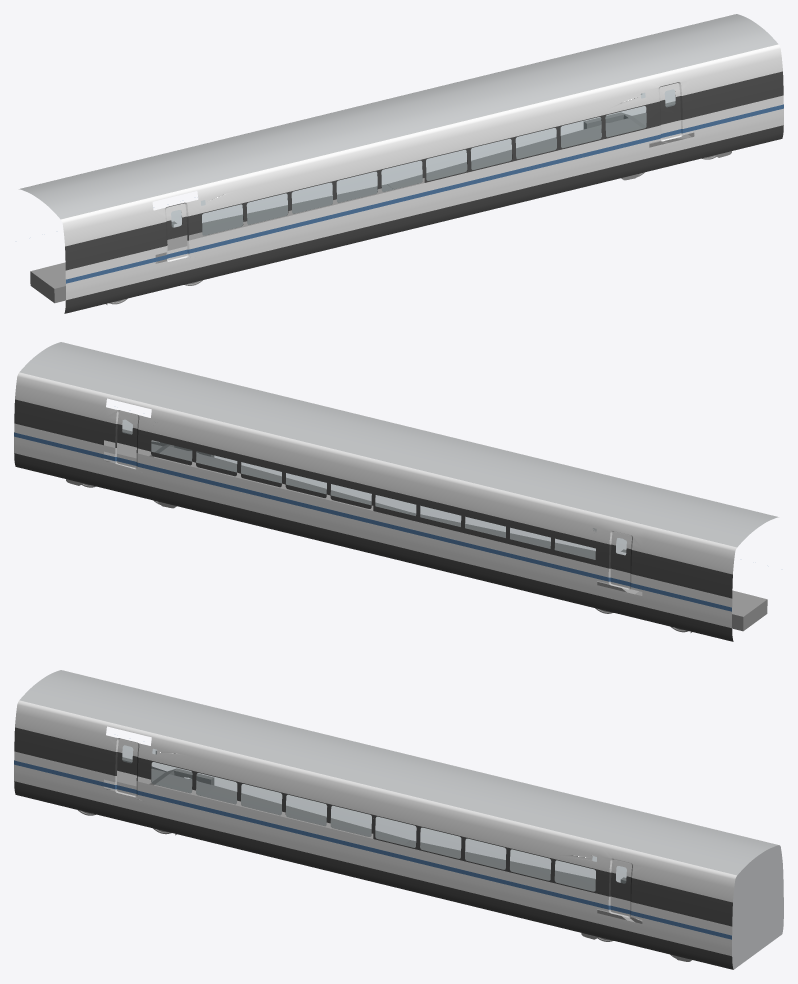
The model's file is body.glb.
The picture shows the model from 3 angles, top to bottom: view 1: azimuth 30°, elevation 25°; view 2: azimuth 150°, elevation 25°; view 3: azimuth 330°, elevation 25°; orthographic projection.
Visible parts, largest first — view 1: Box165, Box161, Object3169, Object3177, Object3168, Object3176, Object3171, Object3179, Object3178, Object3170, Object3167, Object3175 (+2 smaller); view 2: Box159, Box163, Object3177, Object3169, Object3165, Object3173, Object3164, Object3172, Object3175, Object3166, Object3174, Object3167 (+2 smaller); view 3: Box165, Box161, Object3177, Object3169, Object3168, Object3176, object 2, Object3179, Object3171, Object3178, Object3167, Object3170 (+3 smaller).
Part boxes in pixels (x1=…): Box165: x1=420, y1=44, x2=783, y2=212; Box161: x1=61, y1=132, x2=424, y2=300; Object3169: x1=19, y1=101, x2=419, y2=219; Object3177: x1=379, y1=14, x2=778, y2=131; Object3168: x1=64, y1=213, x2=424, y2=313; Object3176: x1=423, y1=125, x2=783, y2=226; Object3171: x1=171, y1=161, x2=422, y2=235; Object3179: x1=426, y1=89, x2=675, y2=180; Object3178: x1=424, y1=71, x2=783, y2=182; Object3170: x1=65, y1=159, x2=424, y2=270; Object3167: x1=30, y1=184, x2=394, y2=304; Object3175: x1=387, y1=101, x2=731, y2=189; Box159: x1=373, y1=460, x2=736, y2=628; Box163: x1=14, y1=372, x2=377, y2=540; Object3177: x1=19, y1=342, x2=418, y2=459; Object3169: x1=378, y1=429, x2=778, y2=547; Object3165: x1=373, y1=487, x2=732, y2=598; Object3173: x1=14, y1=399, x2=373, y2=508; Object3164: x1=373, y1=541, x2=733, y2=641; Object3172: x1=14, y1=453, x2=374, y2=554; Object3175: x1=66, y1=429, x2=410, y2=513; Object3166: x1=375, y1=495, x2=626, y2=559; Object3174: x1=122, y1=420, x2=371, y2=504; Object3167: x1=409, y1=512, x2=767, y2=632; Box165: x1=373, y1=788, x2=736, y2=956; Box161: x1=14, y1=700, x2=377, y2=868; Object3177: x1=378, y1=757, x2=778, y2=875; Object3169: x1=19, y1=670, x2=418, y2=787; Object3168: x1=14, y1=781, x2=374, y2=882; Object3176: x1=373, y1=869, x2=733, y2=969; object 2: x1=732, y1=845, x2=783, y2=969; Object3179: x1=375, y1=817, x2=626, y2=891; Object3171: x1=122, y1=745, x2=371, y2=836; Object3178: x1=373, y1=815, x2=732, y2=926; Object3167: x1=78, y1=757, x2=410, y2=845; Object3170: x1=14, y1=727, x2=373, y2=836.
Bounding box in the file's own units: 19900 × 2892 × 2496.
